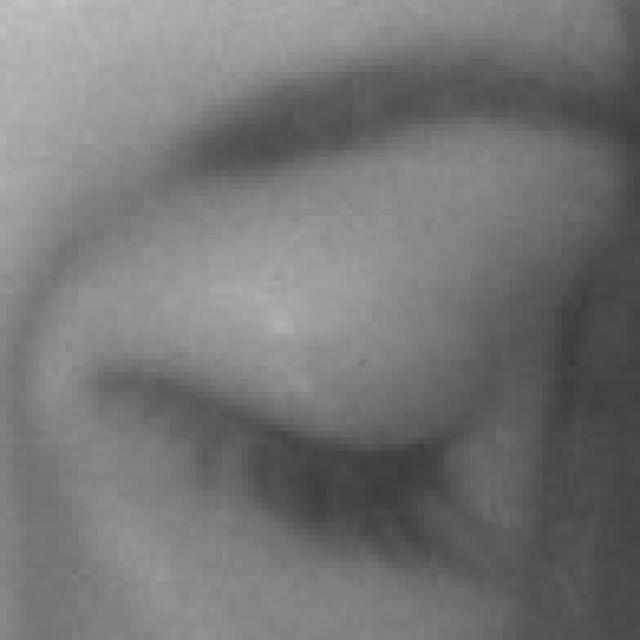close: (0, 48, 638, 608)
